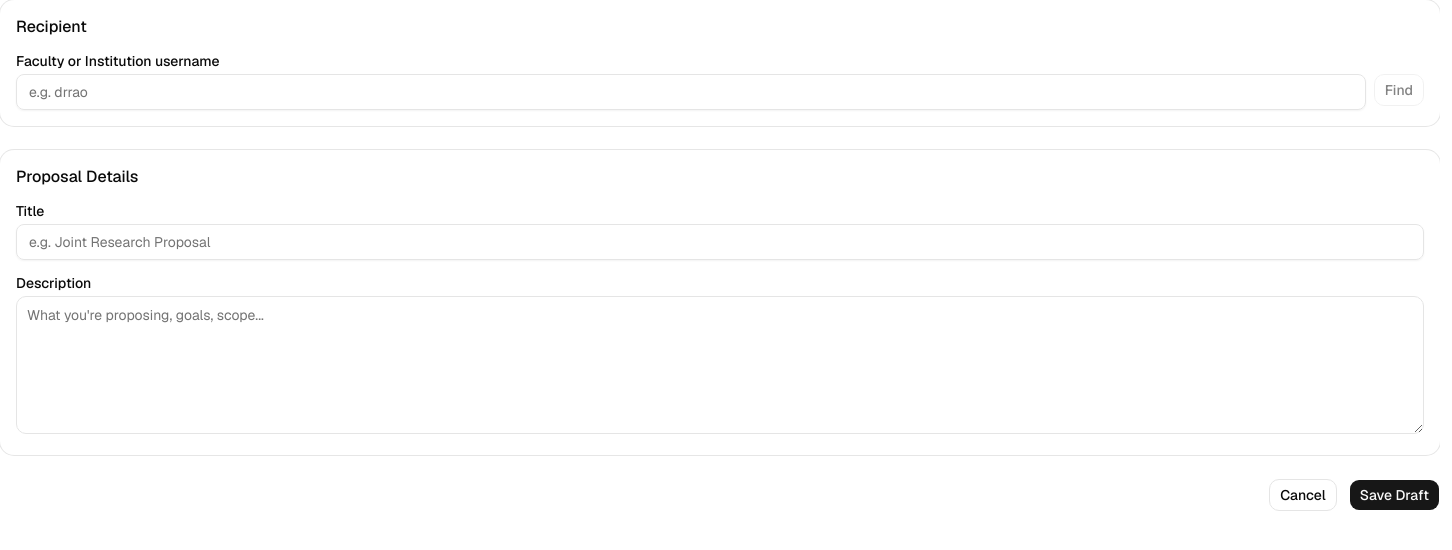
CollaborationForm › shows a not-found message when the recipient cannot be resolved
The width and height of the screenshot is (1452, 550).
Type "nobody" into the field labelled "Faculty or Institution username" at (691, 92), box [16,74,1366,110]
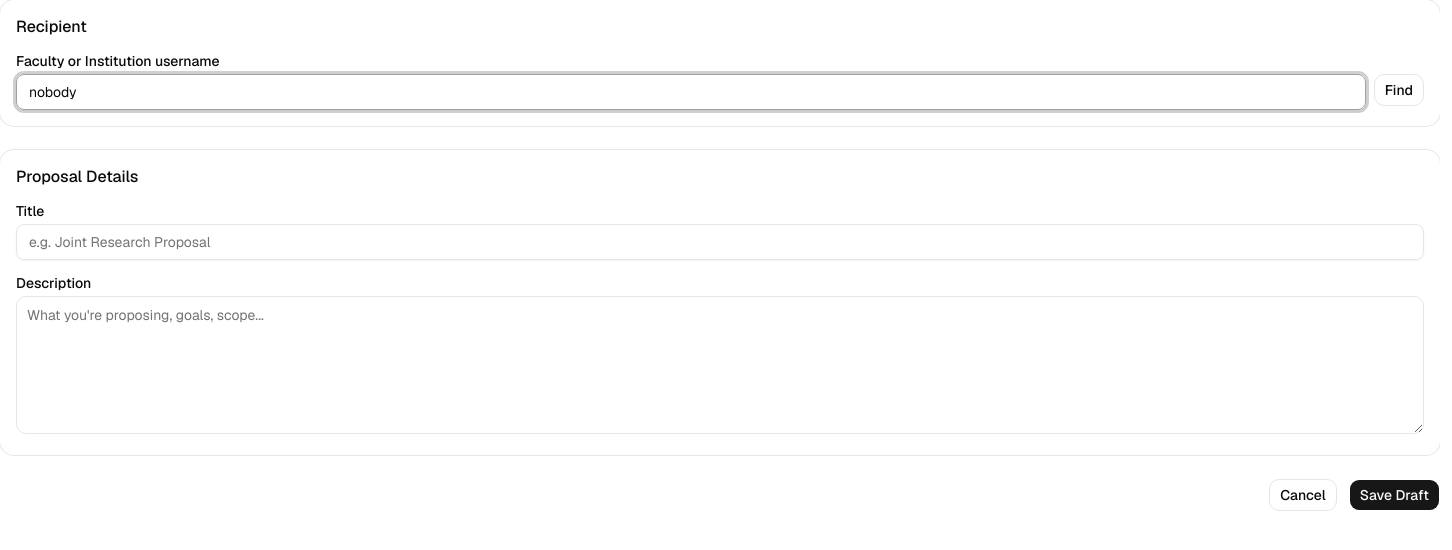
Click the button "Find" at (1399, 90), box [1374,74,1424,106]
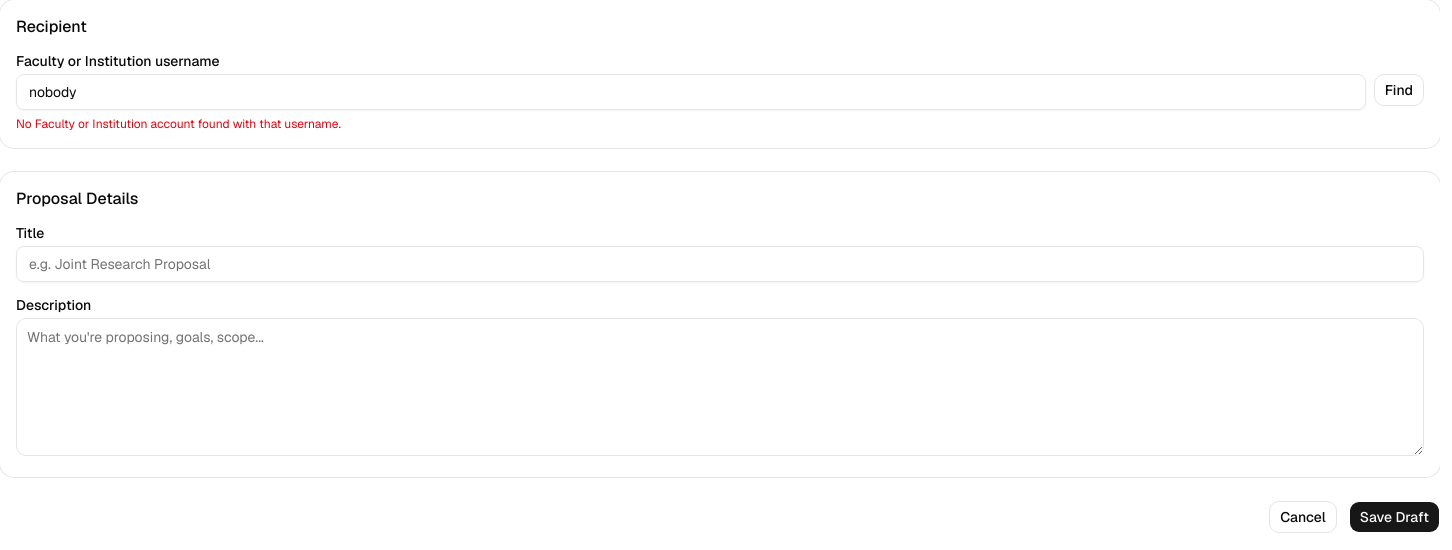
Check: the text "No Faculty or Institution account found with that username." is shown, box [16,116,341,132]
